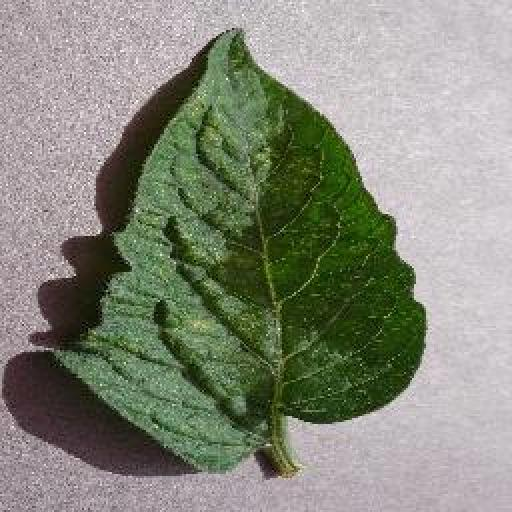disease_tomato: (48, 28, 426, 466)
